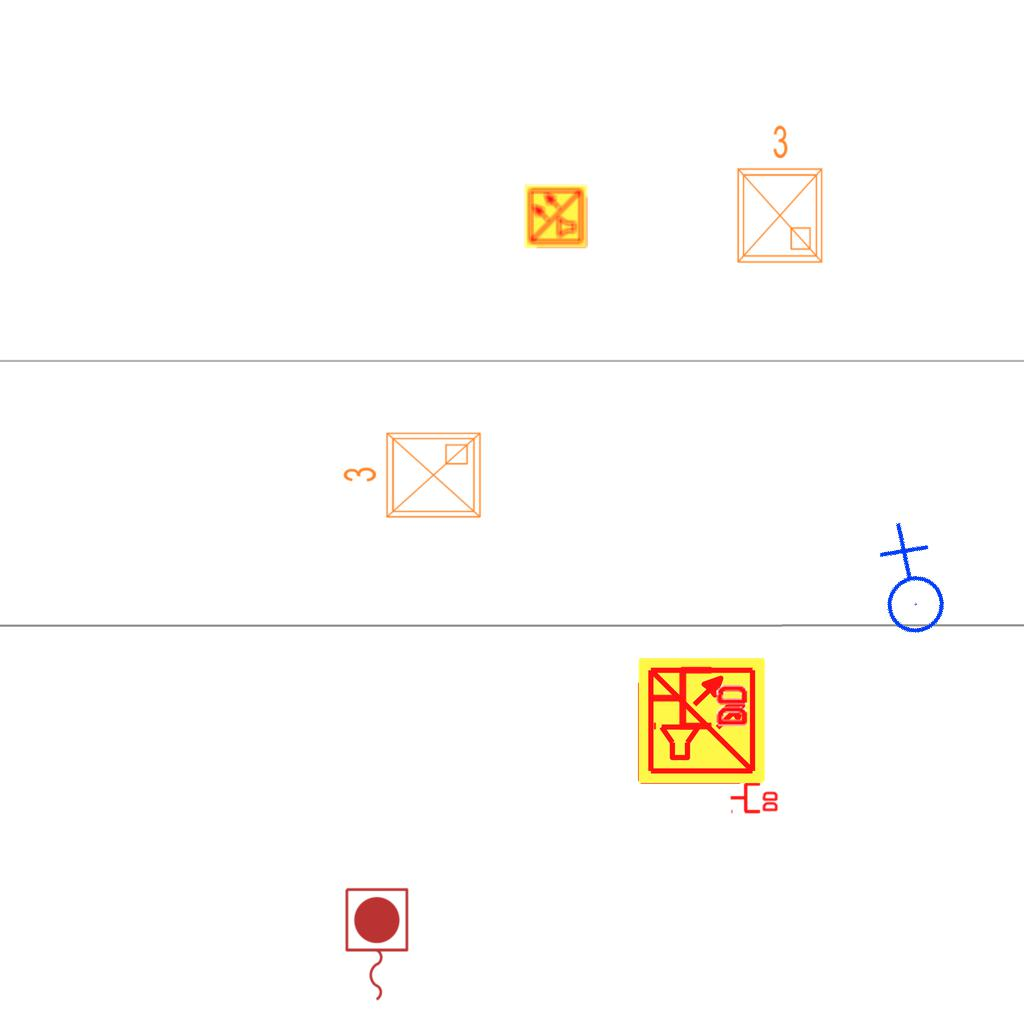Datenanschluss_zweifach: (649, 662, 752, 731), (729, 780, 780, 814)
Einbaudownlights_LED_Konferenzraeume: (726, 120, 830, 270), (338, 425, 488, 529)
Elektroanschluss_allgemein_230V_Geraeteanschlussdose_230V: (841, 518, 974, 652)
OKW_Multisensormelder_(Kombination_optischer_Rauch-Kahlenmonoxid_Waerme-Melder): (636, 655, 768, 787), (523, 183, 589, 249)
Zugtaster: (340, 884, 412, 1006)
